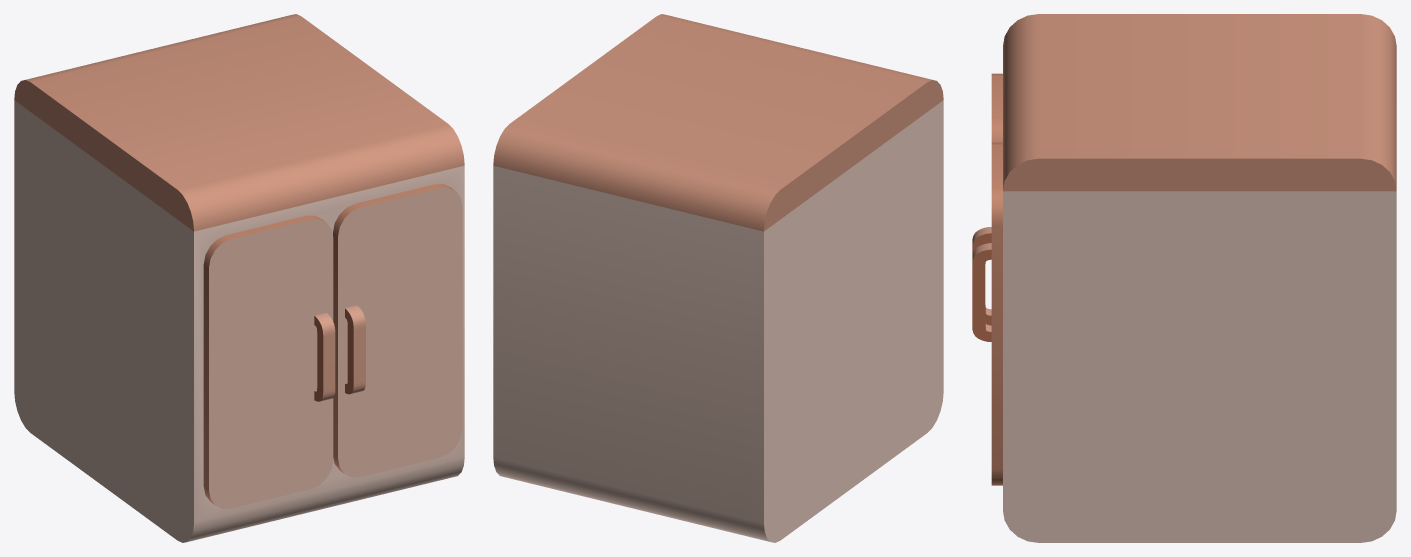
Rendered from Cupboard A.fbx.
3 renders of one model, left to right at view 1: azimuth 30°, elevation 25°; view 2: azimuth 150°, elevation 25°; view 3: azimuth 270°, elevation 25°, orthographic. The views are drawn at different scales.
Visible parts, largest first — view 1: Cupboard.008, Cupboard.001, Cupboard.002; view 2: Cupboard.008; view 3: Cupboard.008, Cupboard.002, Cupboard.001.
Boxes of the visible parts, <box> form: Cupboard.008: <box>14,14,464,542</box>; Cupboard.001: <box>203,215,335,508</box>; Cupboard.002: <box>333,184,462,477</box>; Cupboard.008: <box>493,14,943,542</box>; Cupboard.008: <box>1003,14,1396,542</box>; Cupboard.002: <box>972,142,1002,485</box>; Cupboard.001: <box>972,73,1002,325</box>.
Bounding box in the file's own units: 1.43 × 1.78 × 1.78.
